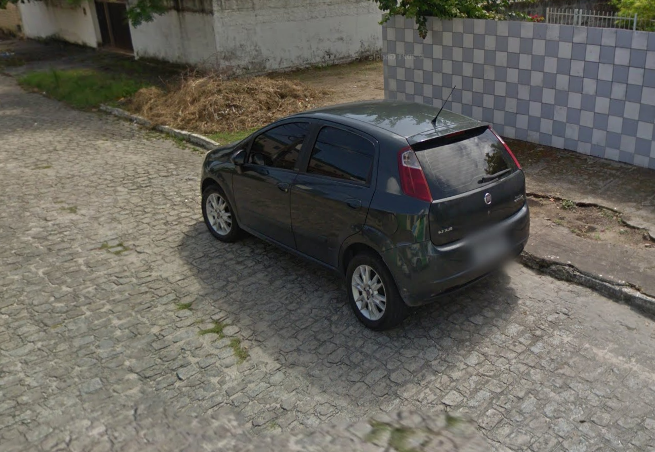car: (195, 82, 539, 338)
